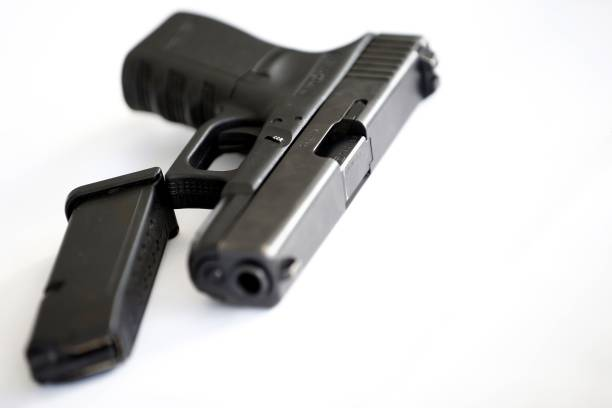pistol: (120, 5, 443, 309)
